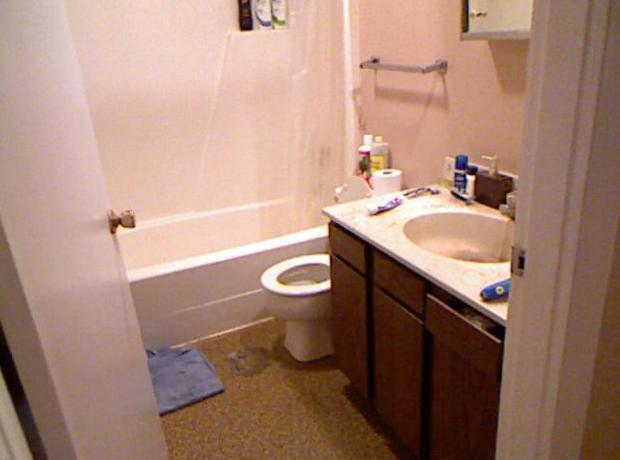Lavamanos: (399, 191, 537, 271)
Sanitario: (260, 170, 401, 375)
